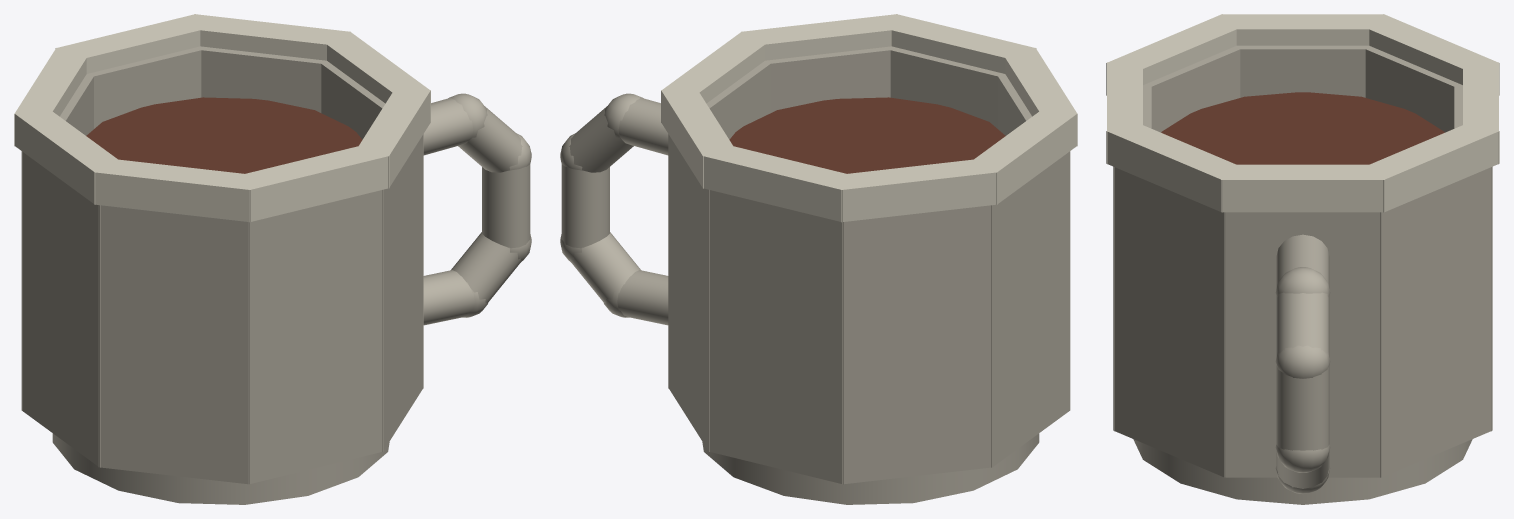
File: CMU3DRMCCoffeeCupFilledDrinksExtraCloud.glb
3 views of the same model, side by side, from view 1: azimuth 30°, elevation 25°; view 2: azimuth 150°, elevation 25°; view 3: azimuth 270°, elevation 25° (orthographic).
Visible parts, largest first — view 1: ceramic cup wall 06, ceramic cup wall 07, ceramic cup wall 05, level coffee meniscus, ceramic cup wall 08, rounded mouth rim 06, thick ceramic base, rounded mouth rim 07, ceramic cup wall 02, ceramic cup wall 03, rounded mouth rim 05, rounded mouth rim 02 (+12 smaller); view 2: ceramic cup wall 04, ceramic cup wall 03, ceramic cup wall 05, level coffee meniscus, ceramic cup wall 02, rounded mouth rim 04, thick ceramic base, rounded mouth rim 03, ceramic cup wall 08, ceramic cup wall 07, rounded mouth rim 05, rounded mouth rim 08 (+12 smaller); view 3: ceramic cup wall 02, ceramic cup wall 08, ceramic cup wall 01, level coffee meniscus, rounded mouth rim 01, thick ceramic base, ceramic cup wall 05, rounded mouth rim 02, rounded mouth rim 08, ceramic cup wall 04, ceramic cup wall 06, rounded mouth rim 05 (+13 smaller).
Boxes of the visible parts, left/top/right/bottom form: ceramic cup wall 06: left=98, top=205, right=249, bottom=484; ceramic cup wall 07: left=248, top=189, right=383, bottom=484; ceramic cup wall 05: left=21, top=151, right=100, bottom=467; level coffee meniscus: left=86, top=97, right=362, bottom=173; ceramic cup wall 08: left=382, top=135, right=422, bottom=451; rounded mouth rim 06: left=94, top=158, right=259, bottom=222; thick ceramic base: left=52, top=433, right=389, bottom=504; rounded mouth rim 07: left=245, top=143, right=389, bottom=222; ceramic cup wall 02: left=190, top=46, right=332, bottom=112; ceramic cup wall 03: left=94, top=46, right=209, bottom=128; rounded mouth rim 05: left=15, top=106, right=122, bottom=204; rounded mouth rim 02: left=185, top=14, right=350, bottom=60; ceramic cup wall 04: left=842, top=205, right=993, bottom=484; ceramic cup wall 03: left=708, top=189, right=843, bottom=484; ceramic cup wall 05: left=991, top=151, right=1070, bottom=467; level coffee meniscus: left=729, top=97, right=1005, bottom=173; ceramic cup wall 02: left=669, top=135, right=709, bottom=451; rounded mouth rim 04: left=832, top=158, right=997, bottom=222; thick ceramic base: left=702, top=433, right=1039, bottom=504; rounded mouth rim 03: left=702, top=143, right=859, bottom=222; ceramic cup wall 08: left=759, top=46, right=898, bottom=112; ceramic cup wall 07: left=882, top=46, right=997, bottom=128; rounded mouth rim 05: left=974, top=106, right=1077, bottom=204; rounded mouth rim 08: left=741, top=14, right=906, bottom=60; ceramic cup wall 02: left=1380, top=166, right=1492, bottom=477; ceramic cup wall 08: left=1113, top=166, right=1225, bottom=477; ceramic cup wall 01: left=1224, top=212, right=1381, bottom=477; level coffee meniscus: left=1161, top=92, right=1444, bottom=164; rounded mouth rim 01: left=1221, top=164, right=1384, bottom=212; thick ceramic base: left=1133, top=439, right=1472, bottom=504; ceramic cup wall 05: left=1228, top=45, right=1374, bottom=97; rounded mouth rim 02: left=1358, top=124, right=1499, bottom=212; rounded mouth rim 08: left=1106, top=125, right=1246, bottom=212; ceramic cup wall 04: left=1358, top=45, right=1462, bottom=132; ceramic cup wall 06: left=1143, top=48, right=1240, bottom=132; rounded mouth rim 05: left=1221, top=14, right=1384, bottom=45.
Bounding box in the file's own units: 0.3544 × 0.2365 × 0.2517.
